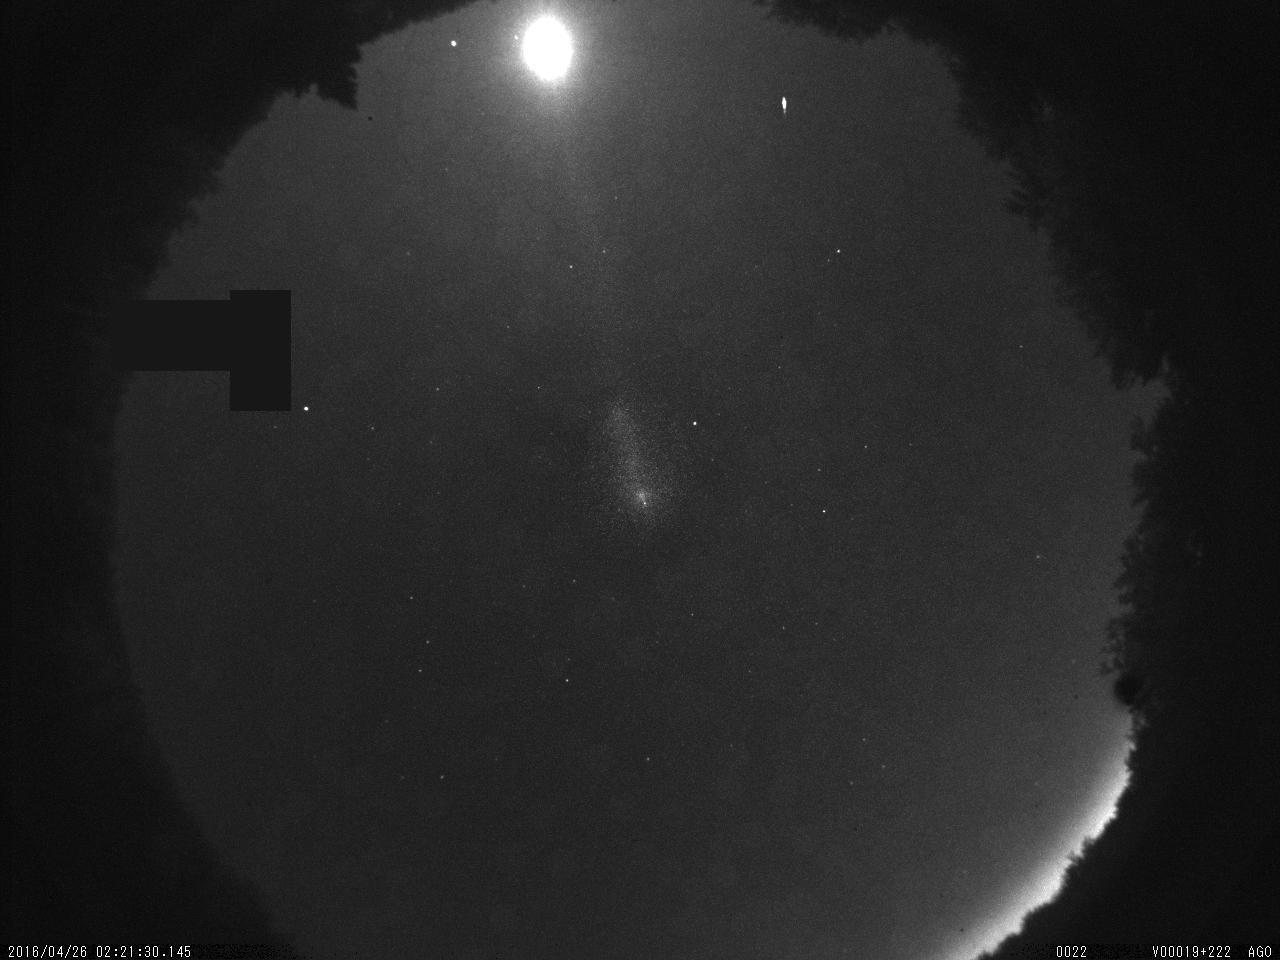meteor: (777, 95, 794, 122)
